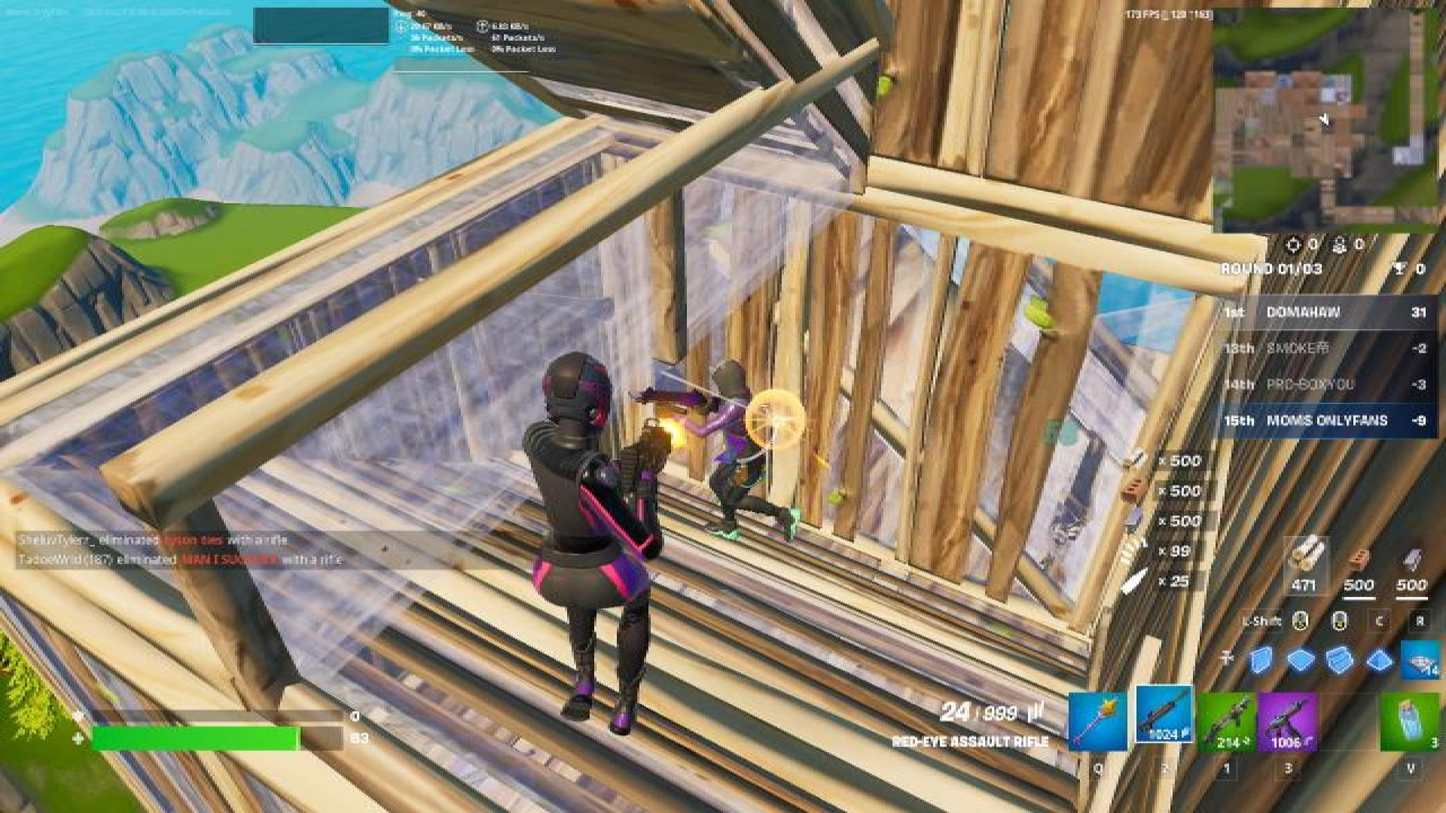player: (679, 359, 819, 546)
